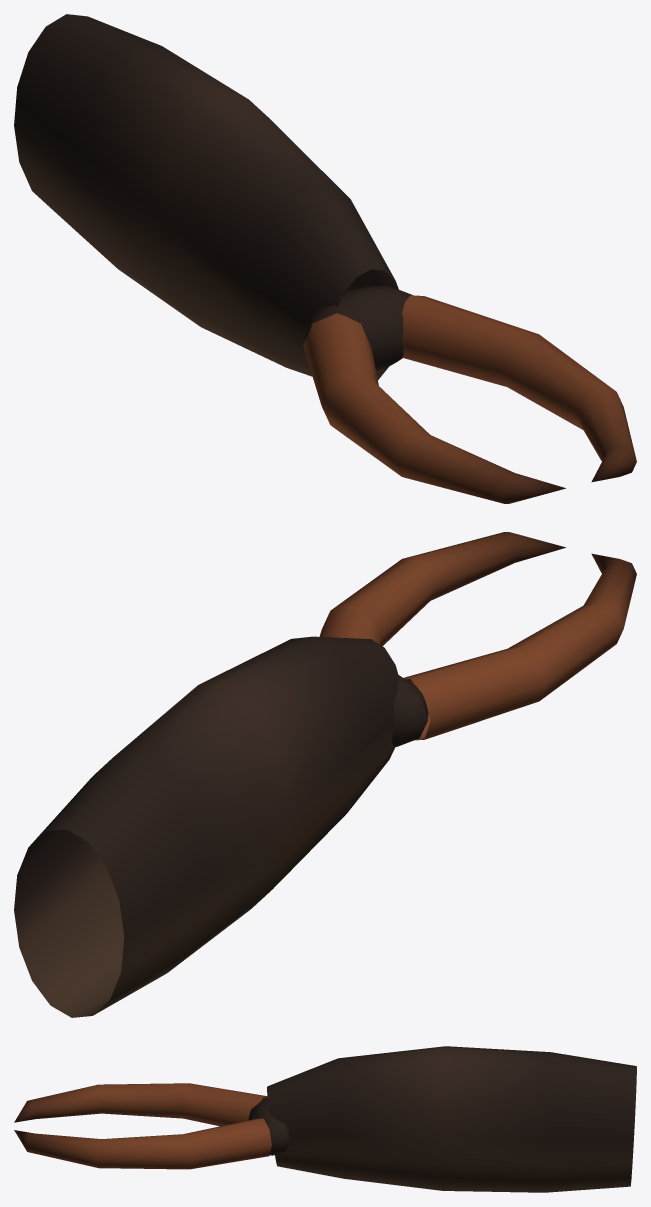
The model's file is Hasamimushi_Tail.fbx.
3 renders of one model, top to bottom at view 1: azimuth 30°, elevation 25°; view 2: azimuth 150°, elevation 25°; view 3: azimuth 270°, elevation 25°, orthographic. The views are drawn at different scales.
Parts seen in each view (by area): view 1: Hasamimushi_Tail; view 2: Hasamimushi_Tail; view 3: Hasamimushi_Tail.
Part boxes in pixels (x1,y1,x2,y2): Hasamimushi_Tail: (14, 14, 636, 503); Hasamimushi_Tail: (14, 532, 636, 1017); Hasamimushi_Tail: (14, 1046, 636, 1192).
Bounding box in the file's own units: 0.1857 × 0.1824 × 0.7237.
